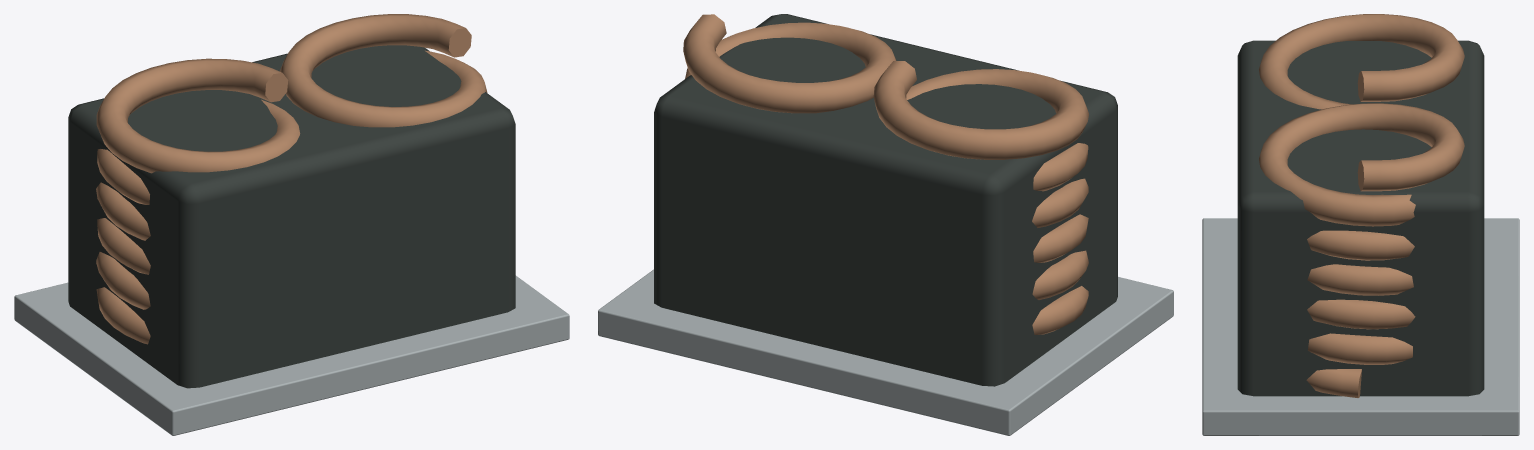
Rendered from scavengers-loot-library-transformer-4475439c__2497.glb.
3 renders of one model, left to right at view 1: azimuth 30°, elevation 25°; view 2: azimuth 150°, elevation 25°; view 3: azimuth 270°, elevation 25°, orthographic. The views are drawn at different scales.
Visible parts, largest first — view 1: transformer; view 2: transformer; view 3: transformer.
Part boxes in pixels (x1,y1,x2,y2): transformer: (14,14,569,435); transformer: (598,14,1173,435); transformer: (1202,14,1519,435).
Size of the model in its own units: 0.13 by 0.0814 by 0.09.
